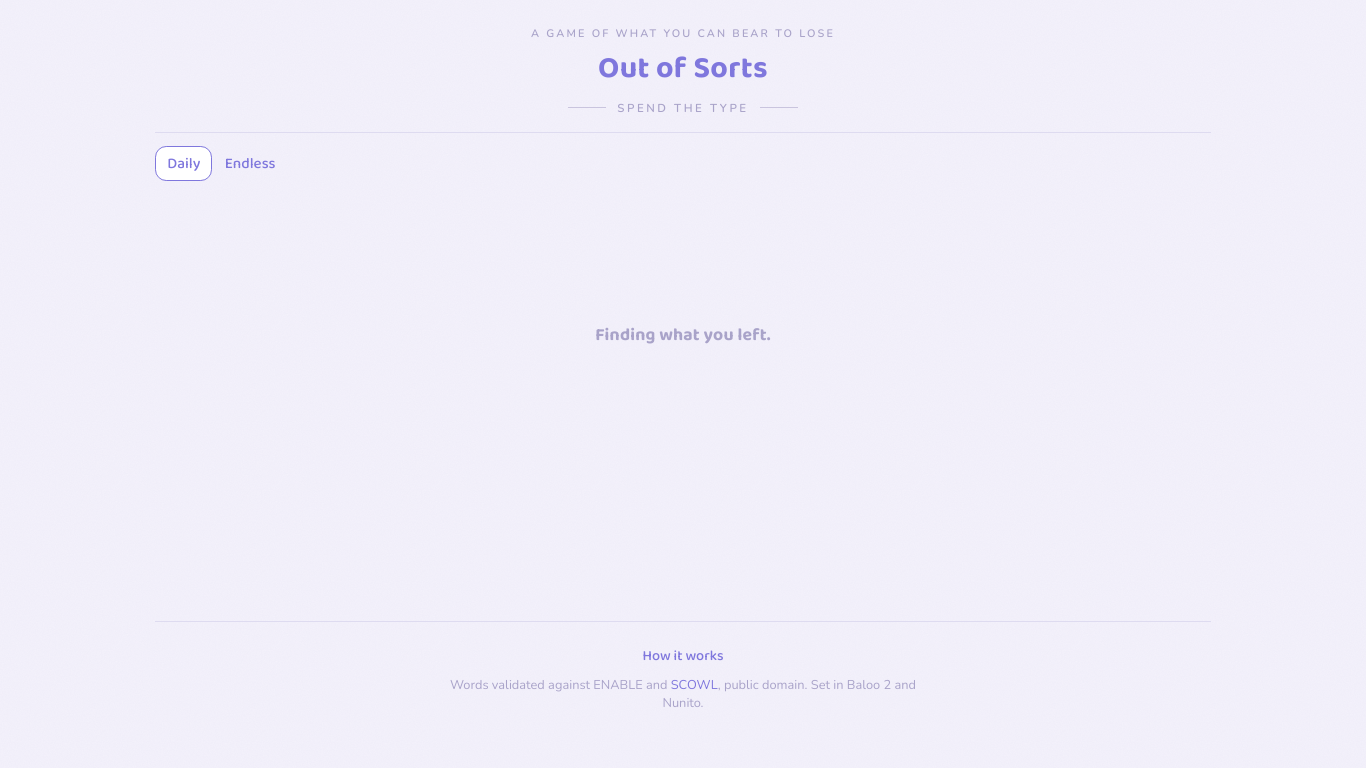
Test: daily and endless gate independently › a restored daily never blocks a fresh endless
Check: the element with test id "restoring" is shown, box [595, 321, 771, 349]
Click the button "Endless": (250, 164) [212, 146, 288, 181]
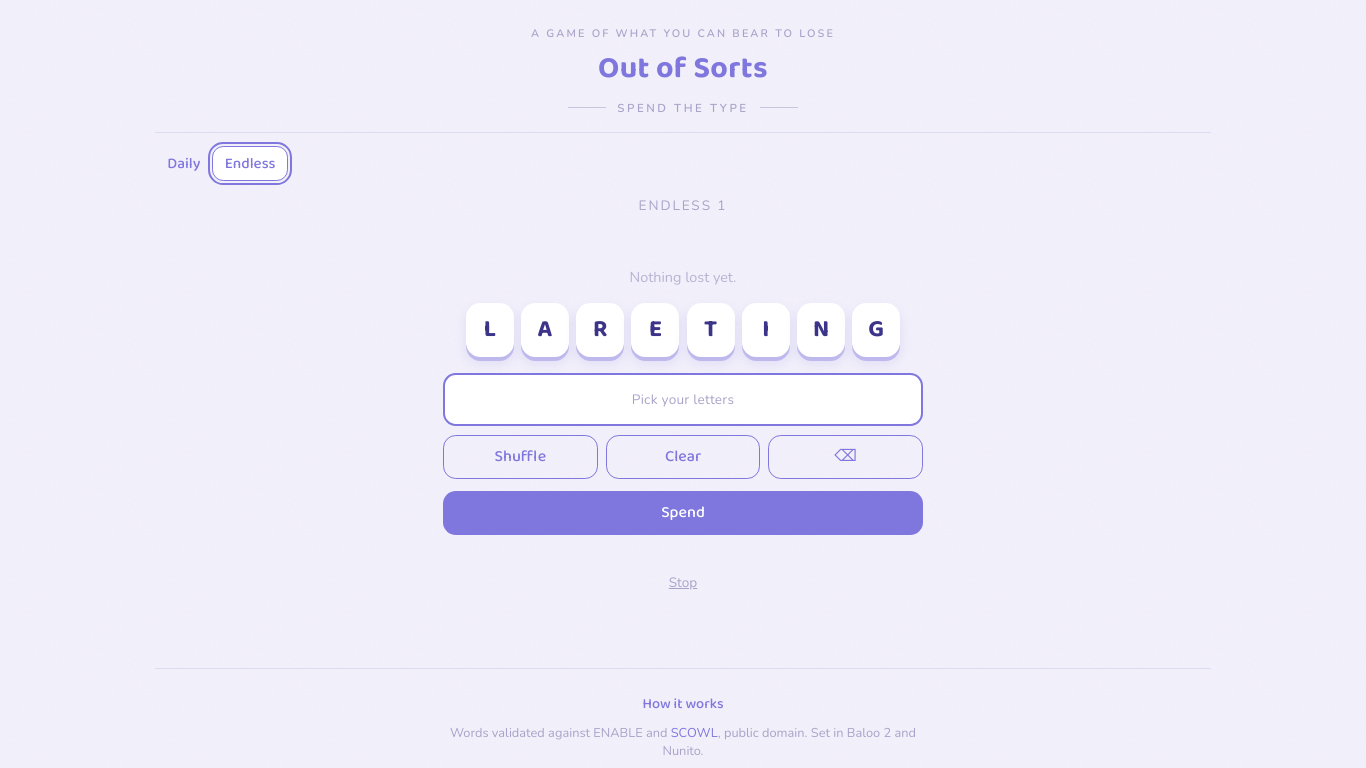
Check: the text "Finding what you left" is gone
And going back to the daily still tells the truth about the daily.
Click the button "Daily": (184, 164) [155, 146, 212, 181]
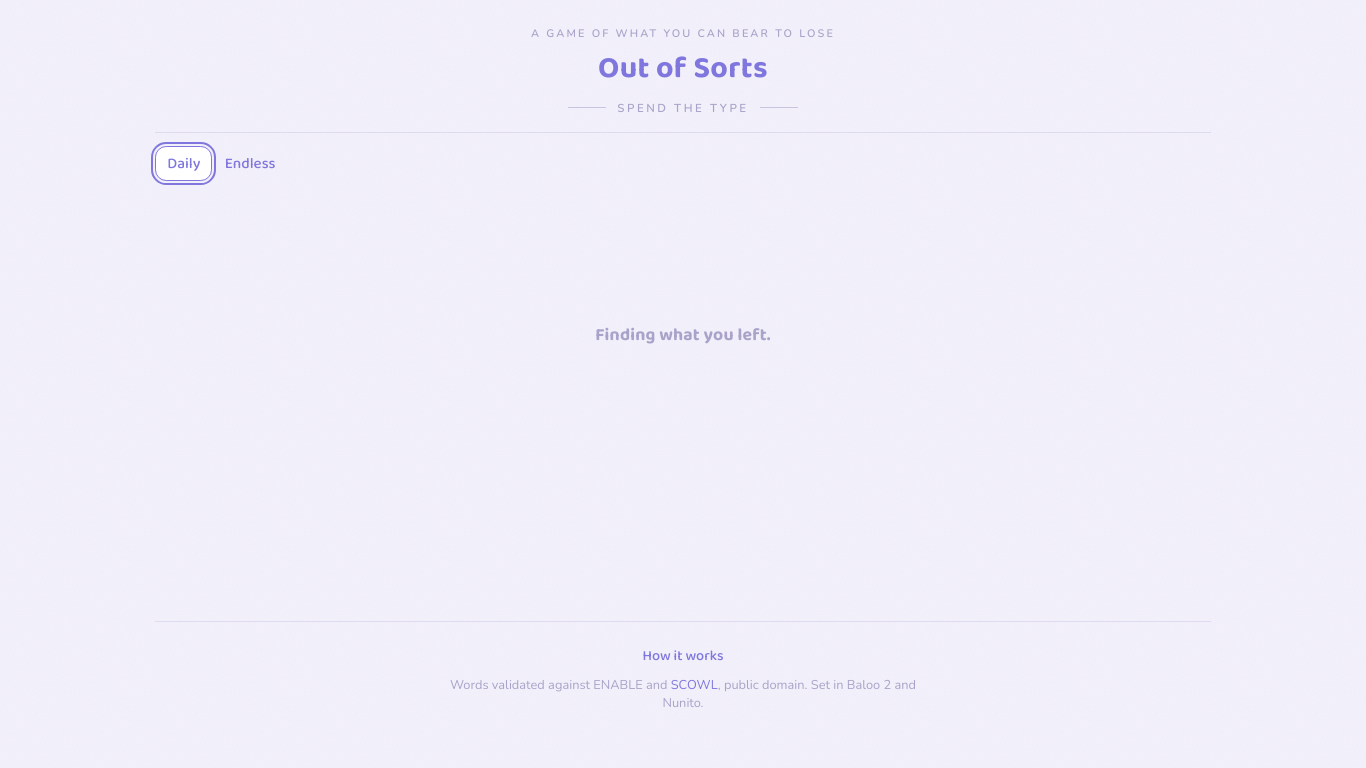
Check: the element with test id "restoring" is shown, box [595, 321, 771, 349]
